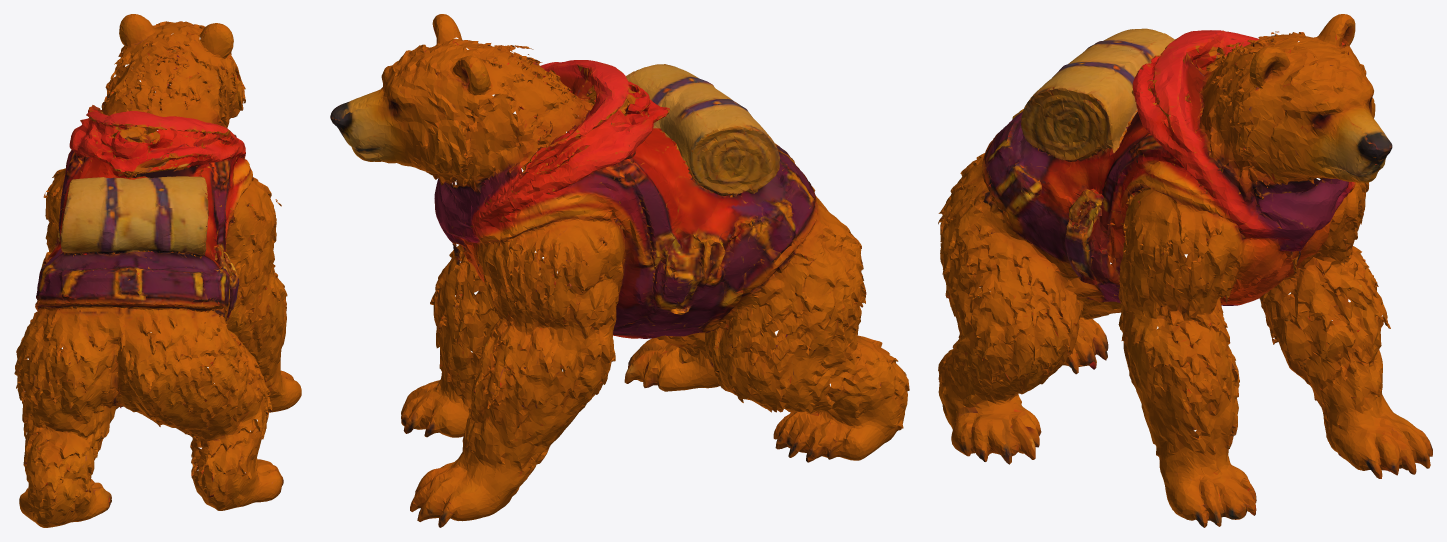
The model's file is URSO_texturizado.glb.
The picture shows the model from 3 angles, left to right: view 1: azimuth 30°, elevation 25°; view 2: azimuth 150°, elevation 25°; view 3: azimuth 270°, elevation 25°; orthographic projection. The views are drawn at different scales.
Visible parts, largest first — view 1: URSO_texturizado.obj; view 2: URSO_texturizado.obj; view 3: URSO_texturizado.obj.
Boxes of the visible parts, x1=… form: URSO_texturizado.obj: x1=14, y1=14, x2=301, y2=527; URSO_texturizado.obj: x1=330, y1=14, x2=909, y2=527; URSO_texturizado.obj: x1=938, y1=14, x2=1432, y2=527.
Size of the model in its own units: 1.92 by 1.96 by 1.96.
Materials: 1 (1 with a texture image).
